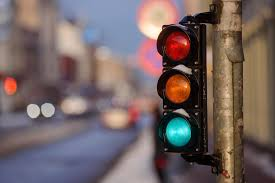signal: (157, 23, 209, 161)
